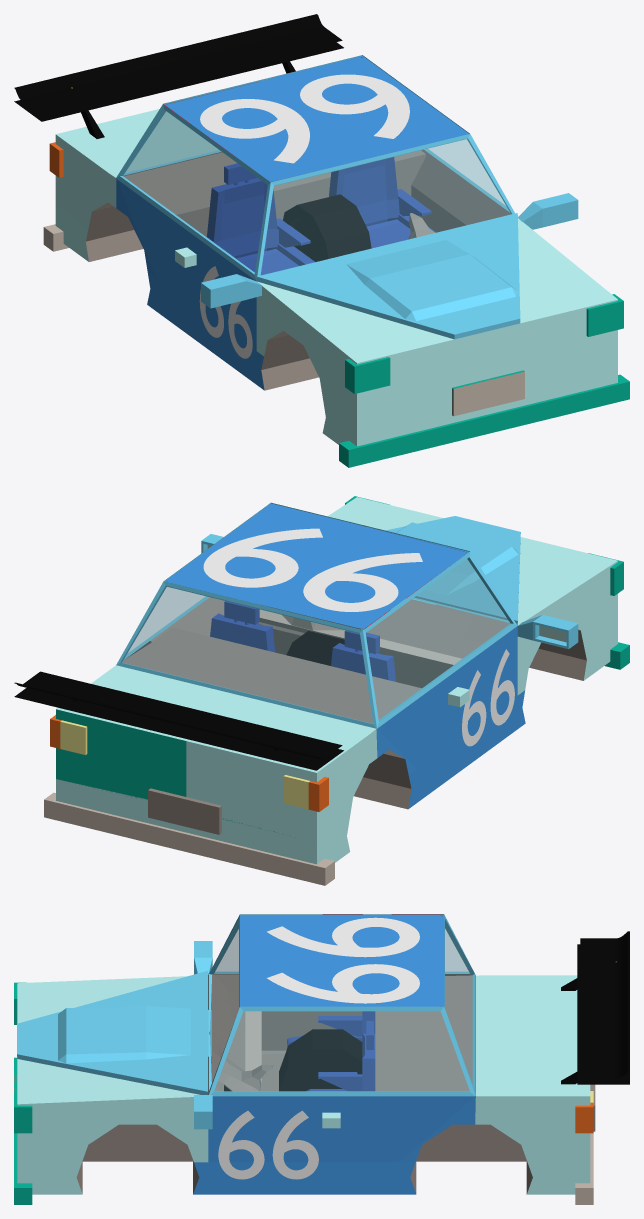
Rendered from CarNb6.fbx.
3 views of the same model, one above another, from view 1: azimuth 30°, elevation 25°; view 2: azimuth 150°, elevation 25°; view 3: azimuth 270°, elevation 25° (orthographic). The views are drawn at different scales.
Parts seen in each view (by area): view 1: 6 Body, 6 Wheels R, 6 Wheels L; view 2: 6 Body, 6 Wheels R, 6 Wheels L; view 3: 6 Body, 6 Wheels R, 6 Wheels L.
Boxes of the visible parts, <box> form: 6 Body: <box>14,14,629,467</box>; 6 Wheels R: <box>283,195,361,260</box>; 6 Wheels L: <box>294,194,371,262</box>; 6 Body: <box>14,496,629,885</box>; 6 Wheels R: <box>292,632,344,665</box>; 6 Wheels L: <box>286,631,344,664</box>; 6 Body: <box>14,914,629,1204</box>; 6 Wheels R: <box>279,1029,362,1091</box>; 6 Wheels L: <box>279,1032,362,1091</box>.
Bounding box in the file's own units: 184 × 90.17 × 281.
